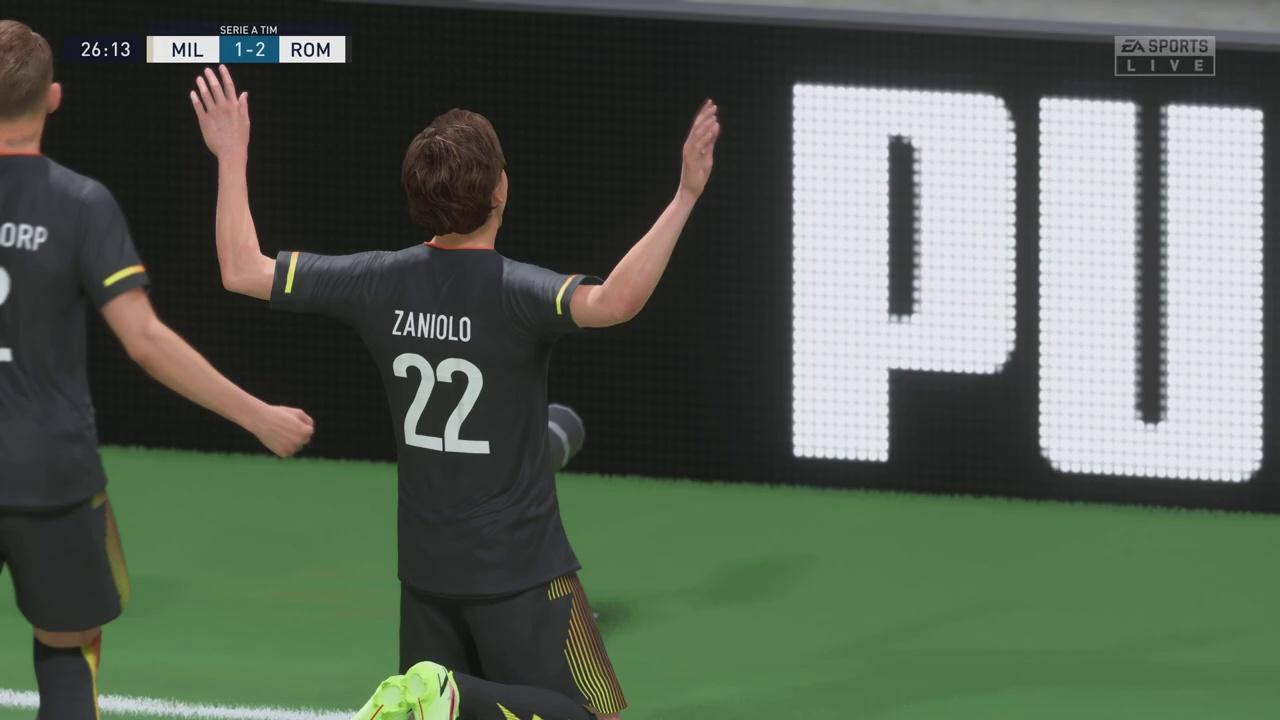scoreboard: (148, 34, 345, 63)
timestamp: (75, 35, 141, 59)
